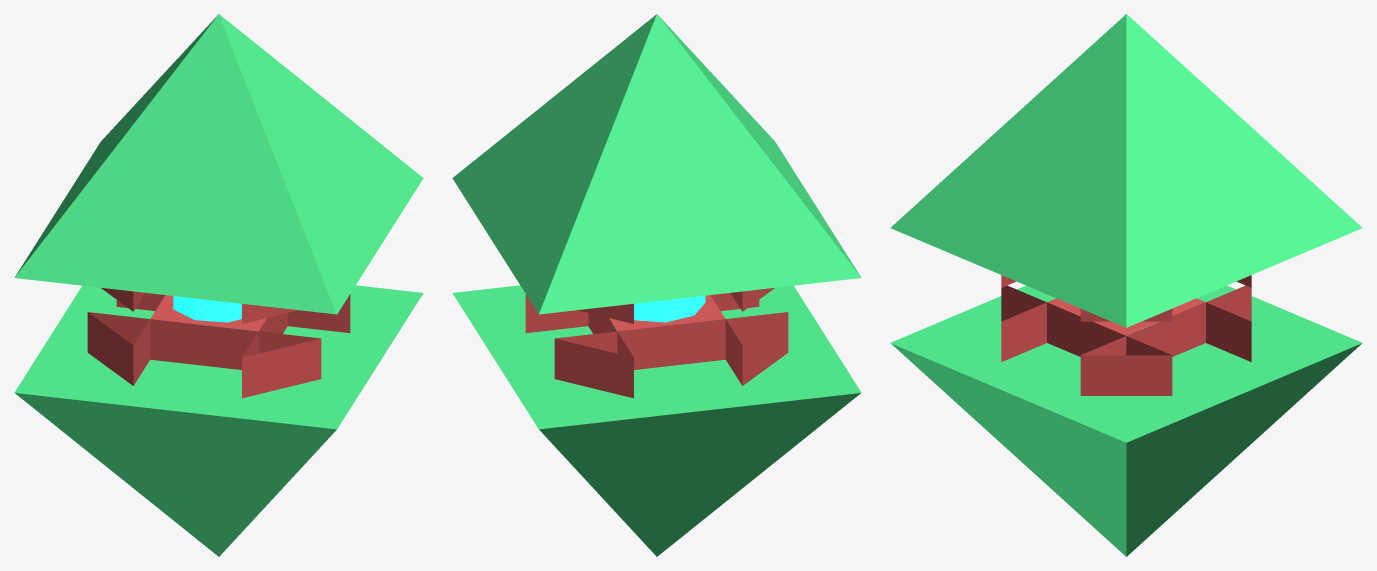
Rendered from Drone3.fbx.
The picture shows the model from 3 angles, left to right: view 1: azimuth 30°, elevation 25°; view 2: azimuth 150°, elevation 25°; view 3: azimuth 270°, elevation 25°; orthographic projection.
Parts seen in each view (by area): view 1: Cube; view 2: Cube; view 3: Cube.
Boxes of the visible parts, x1=… form: Cube: x1=14, y1=14, x2=423, y2=556; Cube: x1=452, y1=14, x2=861, y2=556; Cube: x1=890, y1=14, x2=1362, y2=556.
Bounding box in the file's own units: 200 × 254 × 200.
